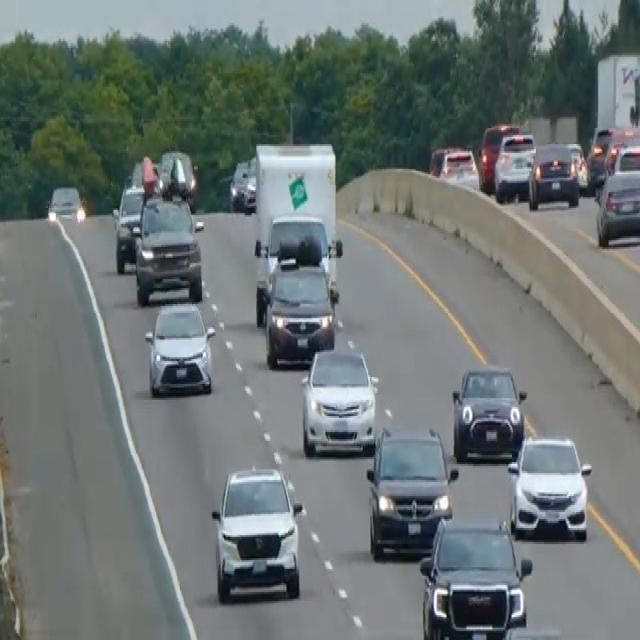car: (418, 514, 532, 638), (210, 462, 303, 603), (365, 422, 457, 558), (506, 432, 592, 540), (256, 214, 340, 324), (300, 345, 378, 457), (262, 254, 336, 368), (451, 361, 527, 462), (143, 298, 216, 396), (527, 140, 580, 210), (594, 167, 639, 247), (112, 180, 146, 272), (493, 130, 536, 202), (478, 119, 519, 189), (428, 142, 479, 192), (158, 148, 198, 210), (586, 122, 617, 188), (46, 183, 85, 224), (491, 620, 571, 638), (564, 139, 588, 192), (130, 153, 160, 195), (229, 158, 248, 210), (612, 140, 639, 174), (242, 156, 257, 214)
jeep: (132, 190, 205, 306)
truck: (251, 139, 343, 366)
